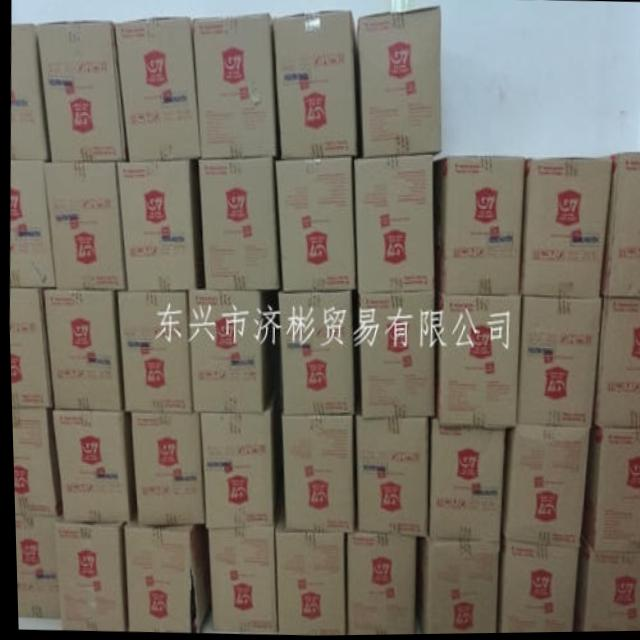box: (517, 158, 611, 300), (431, 158, 523, 298), (356, 6, 440, 159), (271, 11, 356, 161), (35, 21, 126, 161), (112, 16, 199, 162), (191, 15, 278, 159), (431, 291, 520, 431), (197, 384, 278, 529), (513, 298, 599, 429), (187, 290, 278, 411), (197, 157, 279, 290), (498, 426, 586, 548), (352, 157, 430, 294), (273, 159, 353, 292), (41, 162, 123, 290), (115, 160, 193, 292), (356, 291, 433, 420), (120, 519, 206, 633), (425, 418, 503, 543), (40, 288, 119, 411), (352, 405, 425, 536), (276, 292, 351, 417), (271, 505, 340, 636), (115, 292, 188, 413), (279, 415, 352, 533), (50, 410, 127, 521), (129, 411, 201, 526), (51, 517, 121, 632), (415, 538, 496, 635), (578, 429, 640, 553), (495, 543, 576, 634), (205, 527, 273, 633), (343, 533, 412, 636), (570, 541, 640, 634), (590, 300, 640, 429), (599, 155, 640, 299), (8, 160, 52, 287), (9, 25, 49, 160), (9, 407, 57, 516), (7, 286, 50, 407), (12, 515, 56, 618)
